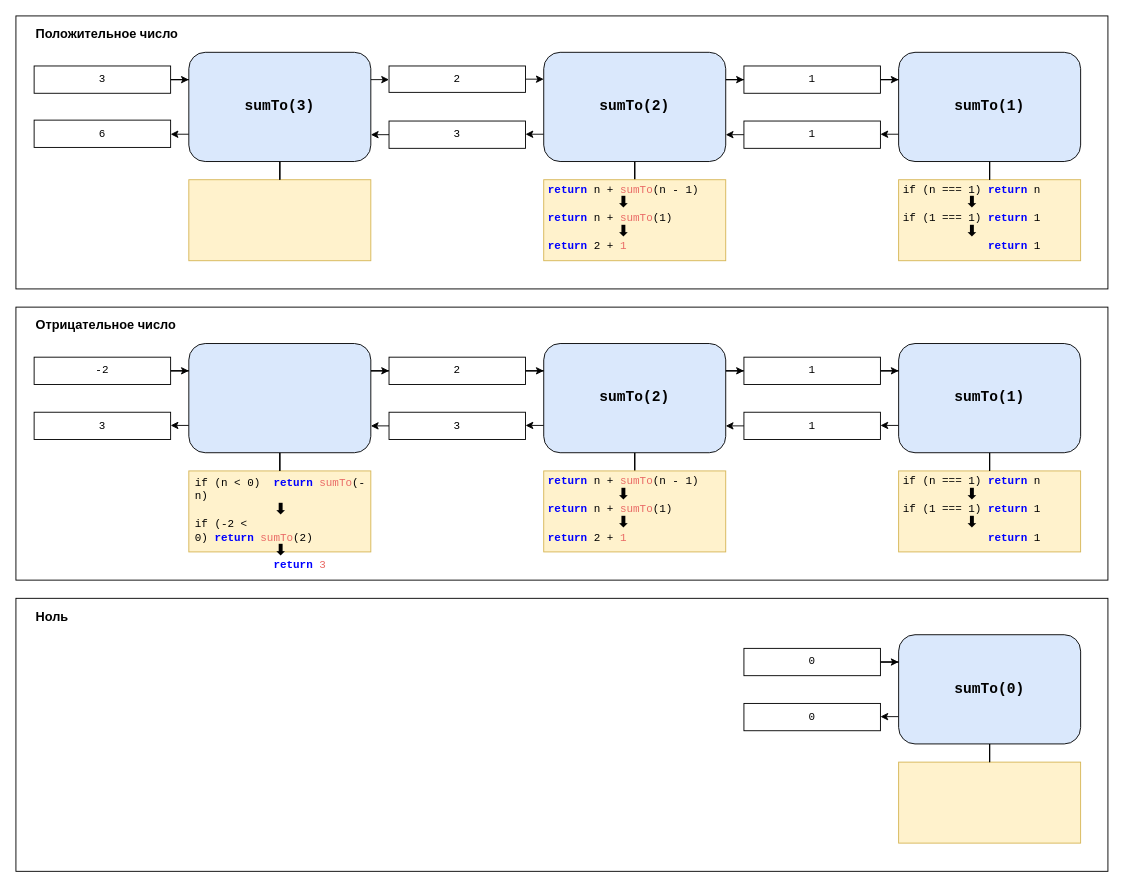
This 1124x887 diagram has some shape labels left out. The shapes that lost their labels are listed below. From the top down, each one's centre as x and y in pixels, then its label:
At point (279, 220): "return n + sumTo (n - 1) ⬇ return 3 + sumTo (2) ⬇ return 3 + 3".
At point (279, 398): "sumTo(-2)".
At point (989, 802): "if (n === 0) return 0 ⬇ if (0 === 0) return 0 ⬇ return 0".
